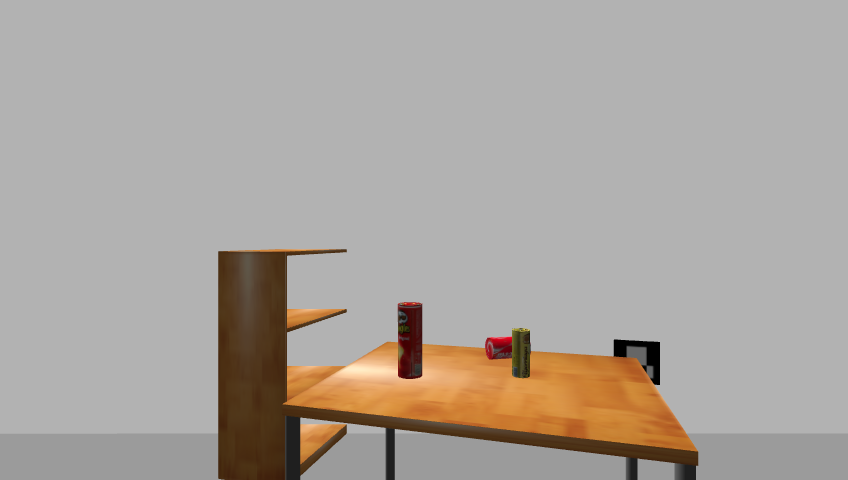aruco marker: (610, 337, 664, 388)
biscuits pack: (511, 328, 531, 379)
bookshelf: (212, 246, 354, 480)
coke can: (483, 337, 513, 361)
dinner table: (280, 339, 708, 480)
pringles can: (396, 301, 424, 381)
